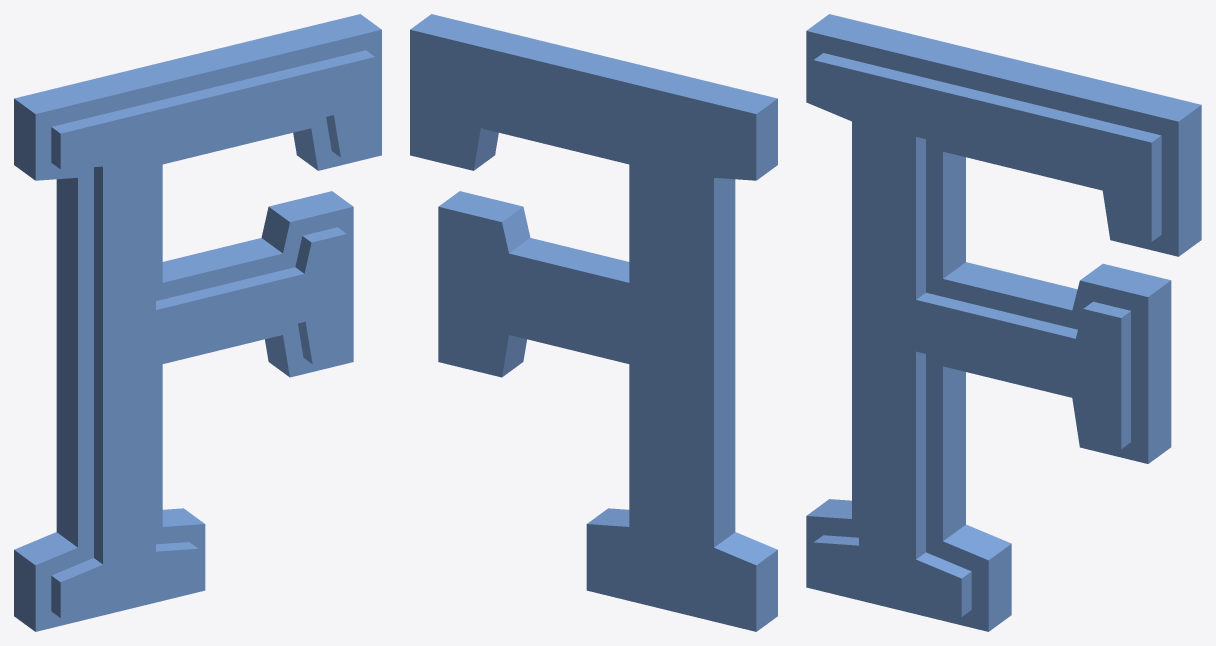
File: uploads_files_2164661_F1.FBX
3 views of the same model, side by side, from view 1: azimuth 30°, elevation 25°; view 2: azimuth 150°, elevation 25°; view 3: azimuth 330°, elevation 25° (orthographic). The views are drawn at different scales.
Visible parts, largest first — view 1: F; view 2: F; view 3: F.
Part boxes in pixels (x1,y1,x2,y2): F: (14,14,381,631); F: (410,14,777,631); F: (806,14,1201,631).
Size of the model in its own units: 3.27 by 4.67 by 0.5.
